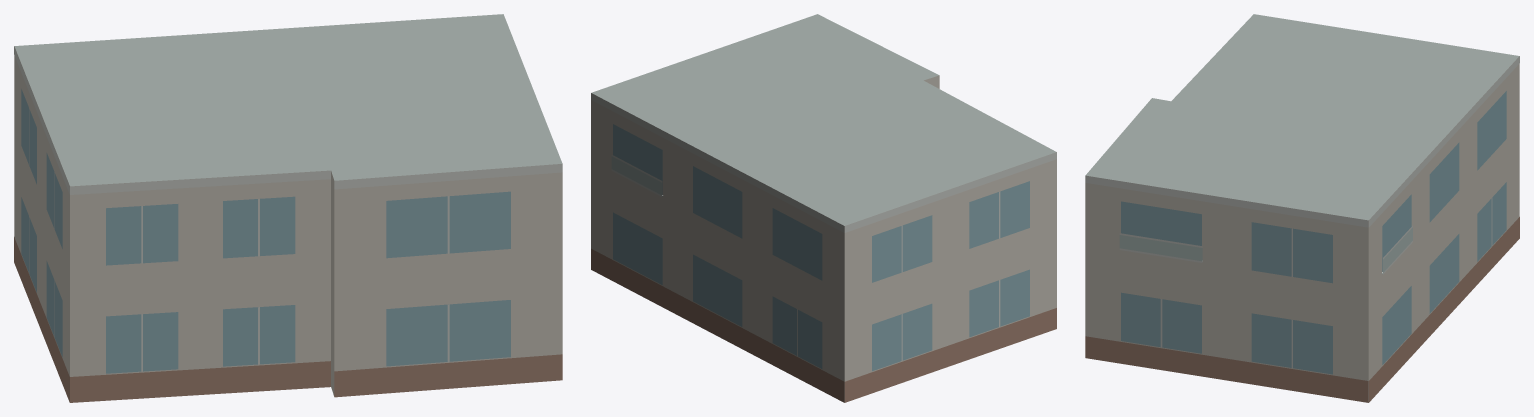
Rendered from survey-upis-32765874.glb.
3 views of the same model, side by side, from view 1: azimuth 30°, elevation 25°; view 2: azimuth 150°, elevation 25°; view 3: azimuth 270°, elevation 25° (orthographic). The views are drawn at different scales.
Parts seen in each view (by area): view 1: survey-upis-32765874.tmp; view 2: survey-upis-32765874.tmp; view 3: survey-upis-32765874.tmp.
Boxes of the visible parts, bbox=[...] form: survey-upis-32765874.tmp: bbox=[14, 14, 562, 402]; survey-upis-32765874.tmp: bbox=[591, 14, 1056, 402]; survey-upis-32765874.tmp: bbox=[1085, 14, 1519, 402].
Size of the model in its own units: 14.81 by 6.1 by 13.17.
